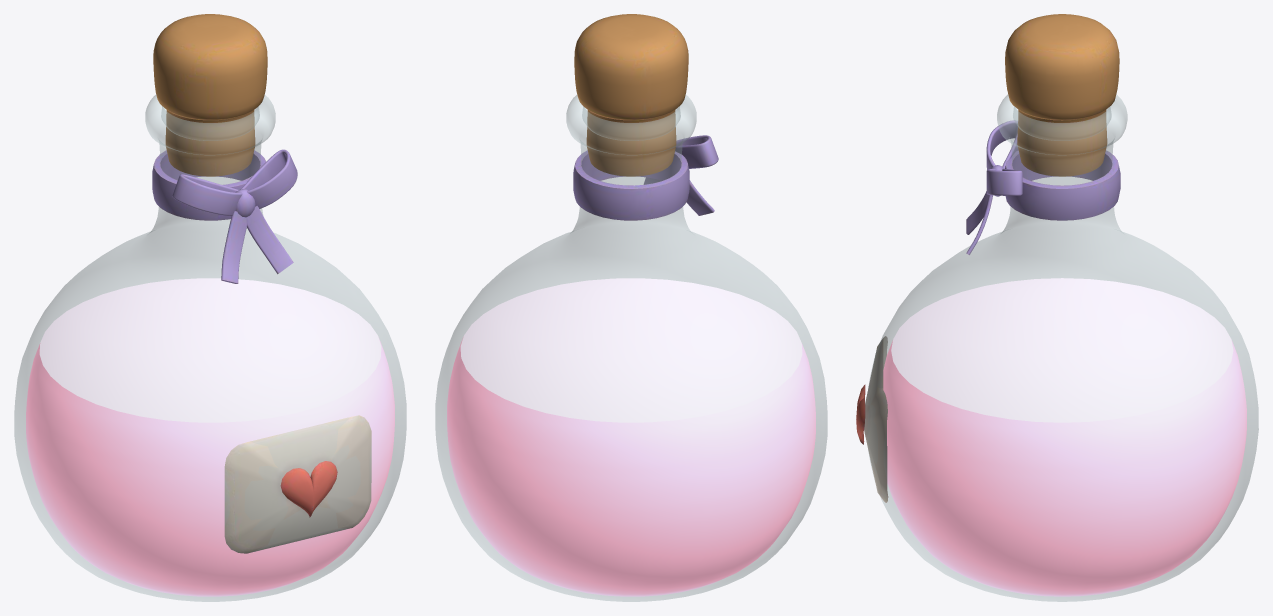
File: potion-bottle.glb
3 renders of one model, left to right at view 1: azimuth 30°, elevation 25°; view 2: azimuth 150°, elevation 25°; view 3: azimuth 270°, elevation 25°, orthographic.
Visible parts, largest first — view 1: potion-bottle_glass, potion-bottle_potion, potion-bottle_body; view 2: potion-bottle_glass, potion-bottle_potion, potion-bottle_body; view 3: potion-bottle_glass, potion-bottle_potion, potion-bottle_body.
Part boxes in pixels (<box>): potion-bottle_glass: <box>14,95,406,601</box>; potion-bottle_potion: <box>26,278,394,596</box>; potion-bottle_body: <box>152,14,371,553</box>; potion-bottle_glass: <box>435,95,827,601</box>; potion-bottle_potion: <box>447,278,815,596</box>; potion-bottle_body: <box>573,14,718,220</box>; potion-bottle_glass: <box>866,94,1258,601</box>; potion-bottle_potion: <box>883,278,1246,596</box>; potion-bottle_body: <box>856,14,1120,502</box>.
Bounding box in the file's own units: 0.134 × 0.1997 × 0.1373.
Materials: 3 (1 with a texture image).
